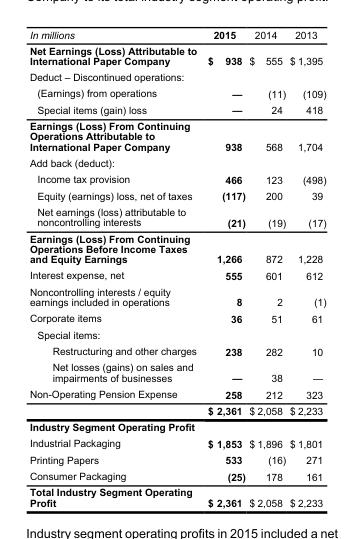table: (28, 28, 325, 508)
table column: (28, 28, 201, 508), (201, 28, 246, 508), (246, 28, 287, 508), (287, 28, 325, 508)
table column header: (28, 28, 325, 42)
table projected row header: (28, 68, 325, 84), (28, 154, 325, 170), (28, 326, 325, 342), (28, 418, 325, 434)
table row: (28, 117, 325, 154), (28, 230, 325, 266), (28, 203, 325, 230), (28, 42, 325, 68), (28, 283, 325, 309), (28, 359, 325, 385), (28, 484, 325, 508), (28, 84, 325, 101), (28, 170, 325, 187), (28, 266, 325, 283), (28, 309, 325, 326), (28, 342, 325, 359), (28, 385, 325, 402), (28, 434, 325, 451), (28, 467, 325, 484), (28, 68, 325, 84), (28, 101, 325, 117), (28, 154, 325, 170), (28, 187, 325, 203), (28, 326, 325, 342), (28, 402, 325, 418), (28, 418, 325, 434), (28, 451, 325, 467), (28, 28, 325, 42)
